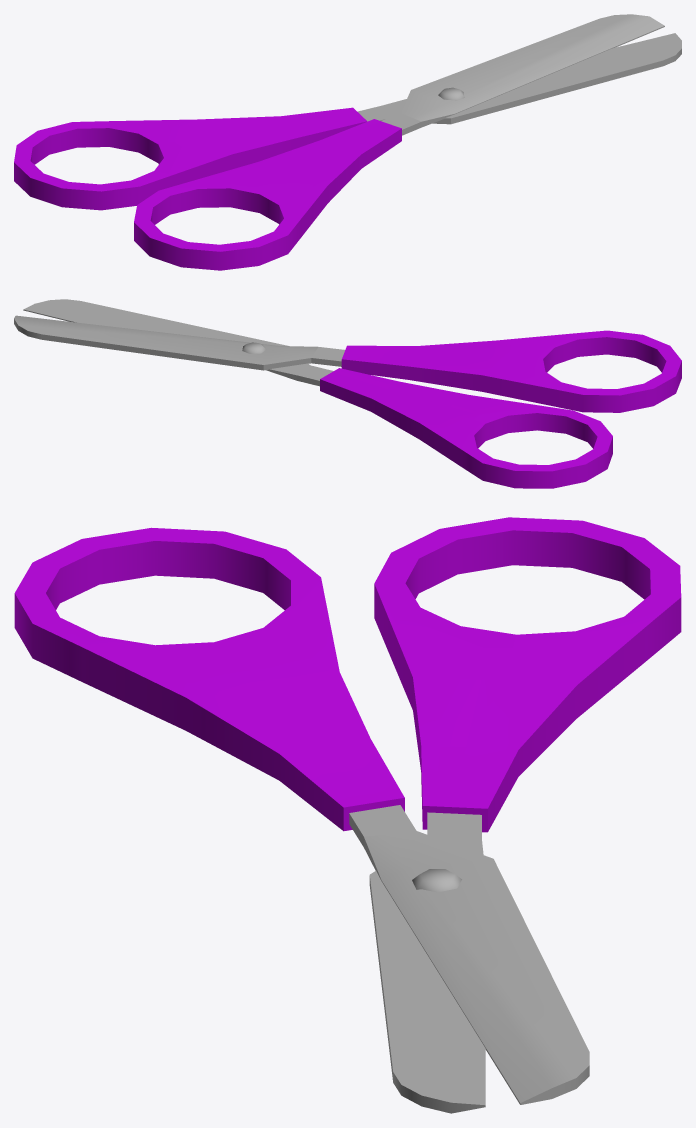
File: tijeras.fbx
The picture shows the model from 3 angles, top to bottom: view 1: azimuth 30°, elevation 25°; view 2: azimuth 150°, elevation 25°; view 3: azimuth 270°, elevation 25°; orthographic projection. The views are drawn at different scales.
Parts seen in each view (by area): view 1: Tijeras; view 2: Tijeras; view 3: Tijeras.
Boxes of the visible parts, x1,y1,x2,y2 form: Tijeras: (14,14,681,270); Tijeras: (14,299,681,488); Tijeras: (14,517,681,1113).
Size of the model in its own units: 8.77 by 0.3185 by 4.29.
